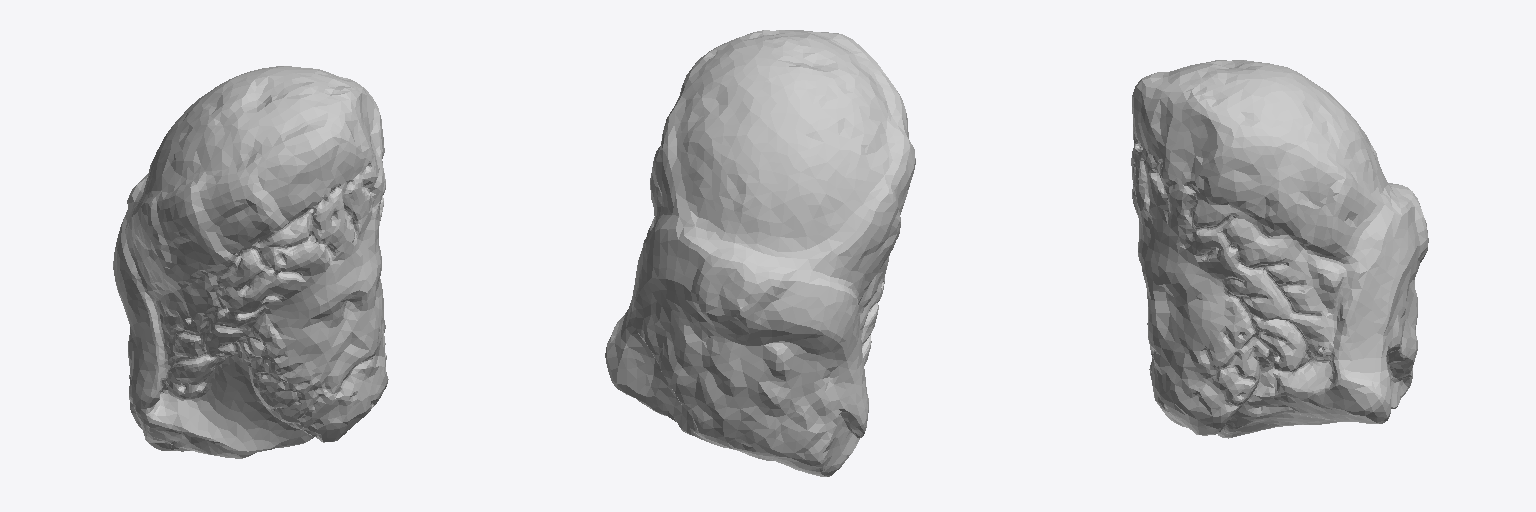
The picture shows the model from 3 angles: view 1: azimuth 30°, elevation 25°; view 2: azimuth 150°, elevation 25°; view 3: azimuth 270°, elevation 25°; orthographic projection.
Parts seen in each view (by area): view 1: Aset_stone_carved_S_tfkufefda_LOD0; view 2: Aset_stone_carved_S_tfkufefda_LOD0; view 3: Aset_stone_carved_S_tfkufefda_LOD0.
Part boxes in pixels (bbox=[...]): Aset_stone_carved_S_tfkufefda_LOD0: bbox=[113, 66, 388, 458]; Aset_stone_carved_S_tfkufefda_LOD0: bbox=[605, 30, 915, 476]; Aset_stone_carved_S_tfkufefda_LOD0: bbox=[1131, 60, 1428, 438].
Bounding box in the file's own units: 1.45 × 2.24 × 1.6.